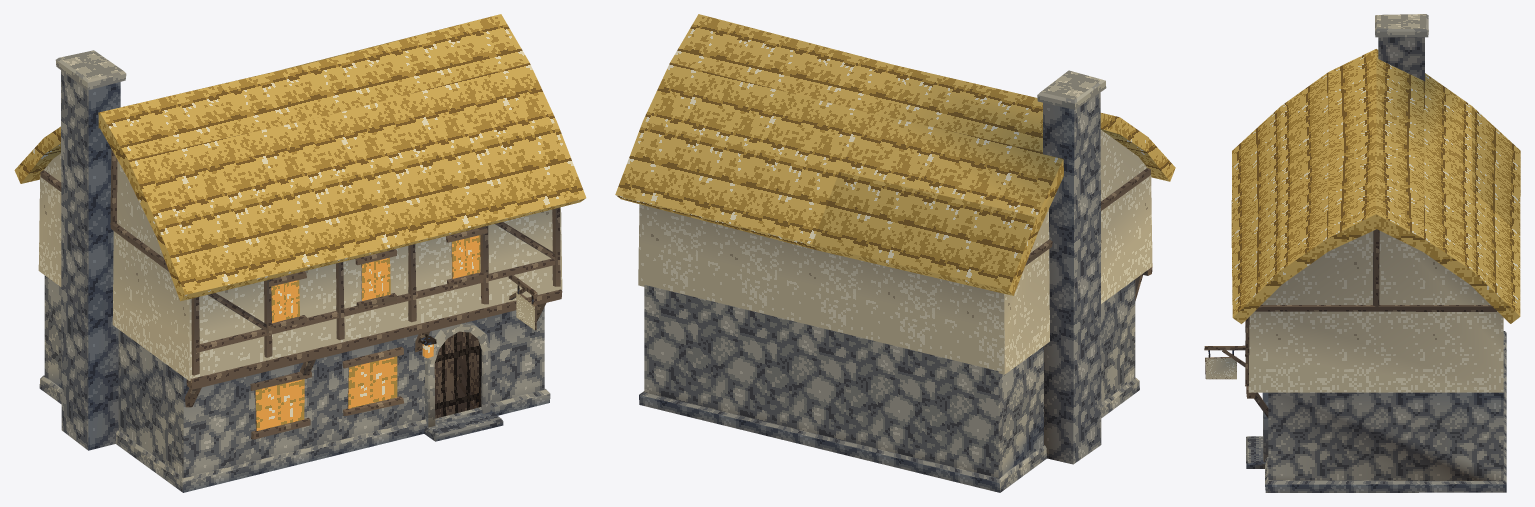
The model's file is vlg.tavern__thatch.glb.
The picture shows the model from 3 angles, left to right: view 1: azimuth 30°, elevation 25°; view 2: azimuth 150°, elevation 25°; view 3: azimuth 270°, elevation 25°; orthographic projection. The views are drawn at different scales.
Parts seen in each view (by area): view 1: kit_roof, kit_walls, kit_stonework, kit_fittings, kit_frame; view 2: kit_walls, kit_roof, kit_stonework, kit_frame; view 3: kit_roof, kit_walls, kit_stonework, kit_frame, kit_fittings.
Boxes of the visible parts, left/top/right/bottom form: kit_roof: left=14, top=14, right=586, bottom=301; kit_walls: left=38, top=153, right=562, bottom=477; kit_stonework: left=39, top=50, right=550, bottom=492; kit_fittings: left=250, top=227, right=537, bottom=441; kit_frame: left=40, top=149, right=562, bottom=407; kit_walls: left=638, top=130, right=1152, bottom=477; kit_roof: left=615, top=14, right=1175, bottom=295; kit_stonework: left=639, top=70, right=1139, bottom=492; kit_frame: left=1025, top=168, right=1152, bottom=300; kit_roof: left=1231, top=49, right=1520, bottom=323; kit_walls: left=1248, top=231, right=1503, bottom=481; kit_stonework: left=1265, top=14, right=1506, bottom=492; kit_frame: left=1245, top=229, right=1496, bottom=417; kit_fittings: left=1204, top=320, right=1268, bottom=468.
Bounding box in the file's own units: 10.35 × 8.87 × 8.07.
Materials: 11 (11 with a texture image).
